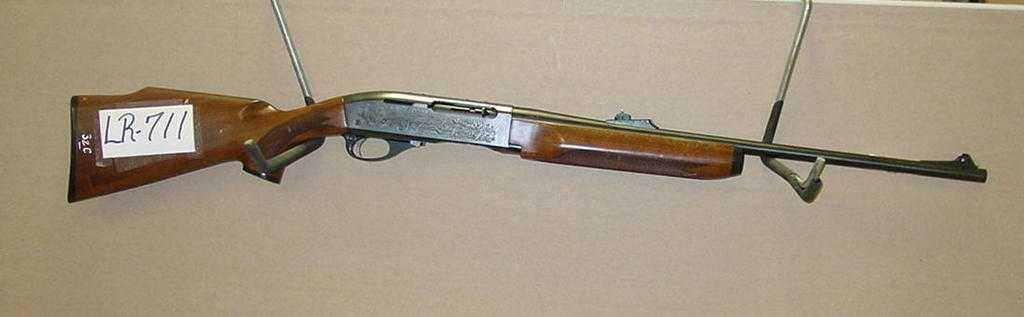heavyweapon: (43, 80, 1007, 244)
